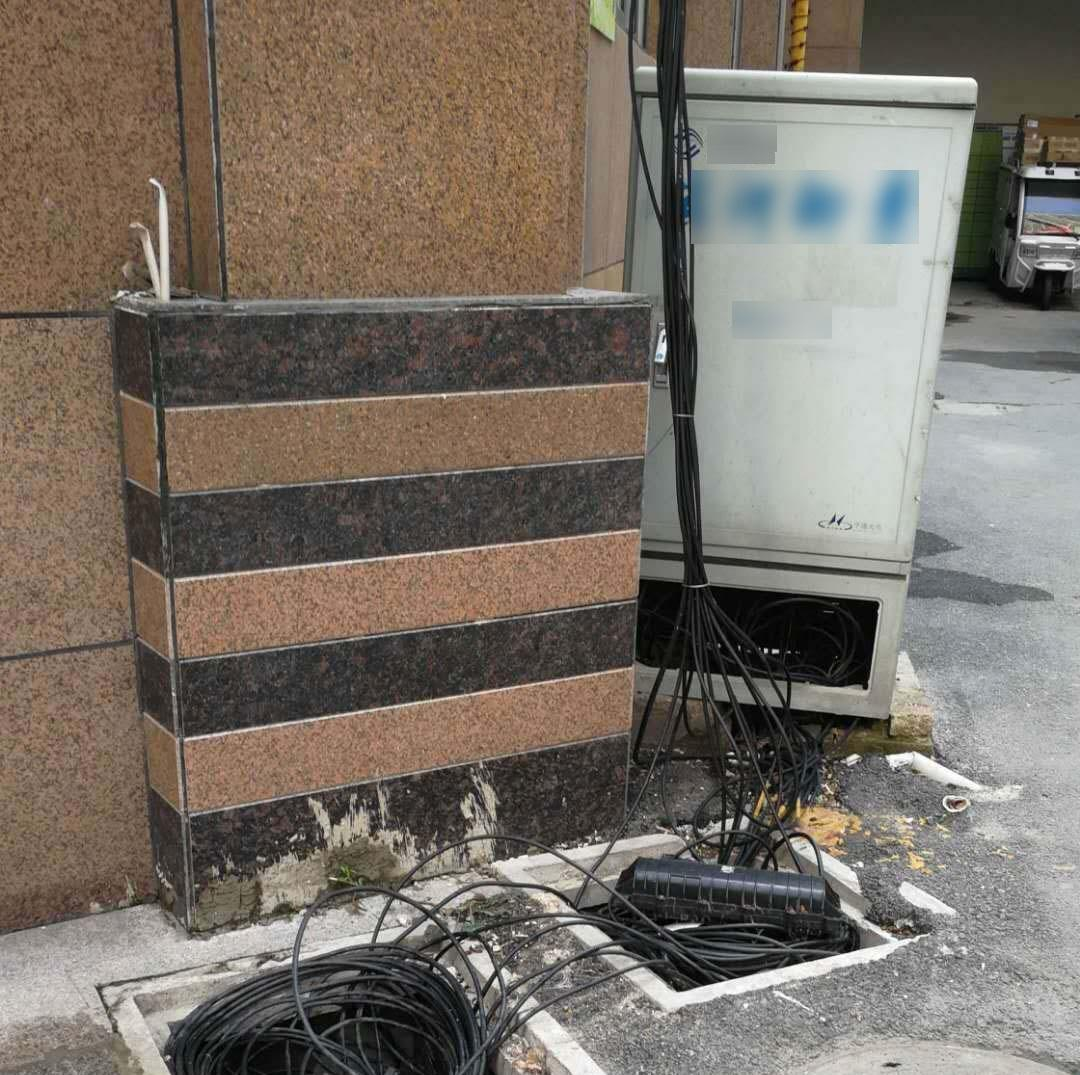wellcover: (495, 805, 950, 1011), (91, 941, 626, 1075)
